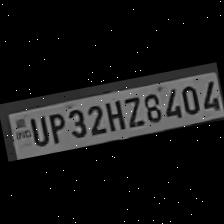0: (176, 82, 200, 117)
2: (82, 102, 106, 138)
3: (62, 105, 89, 141)
4: (195, 78, 222, 114), (157, 84, 182, 122)
8: (139, 90, 164, 126)
H: (101, 97, 125, 133)
P: (44, 108, 68, 146)
U: (24, 113, 48, 149)
Z: (118, 92, 144, 130)
